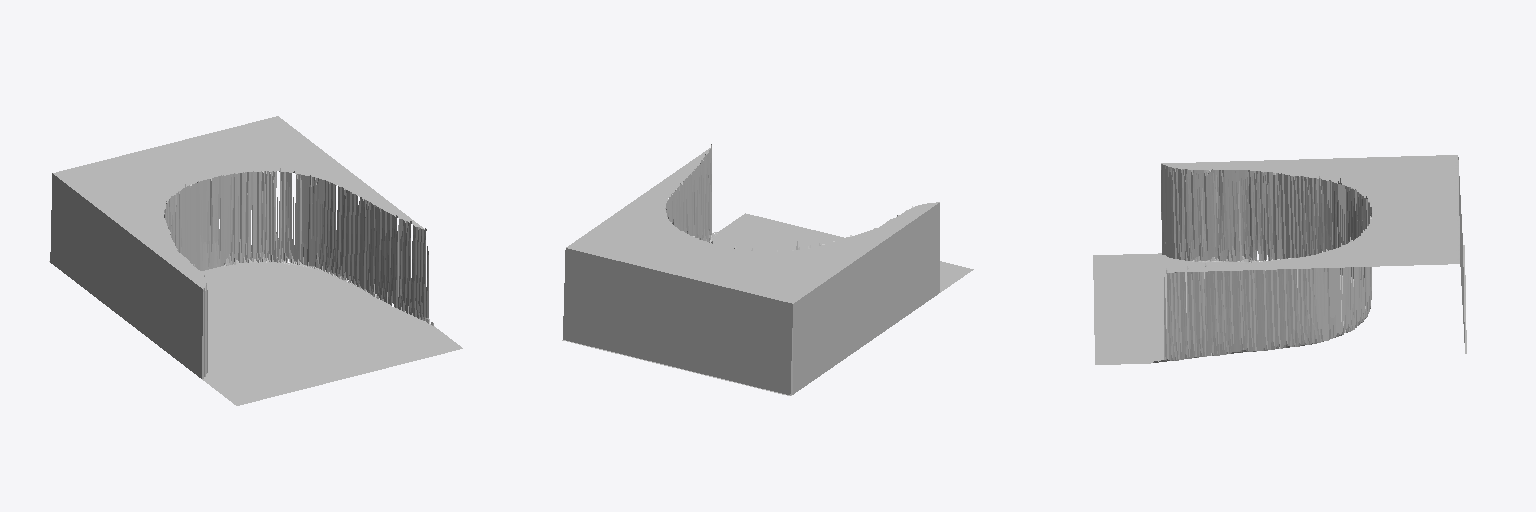
File: mountain.obj
3 views of the same model, side by side, from view 1: azimuth 30°, elevation 25°; view 2: azimuth 150°, elevation 25°; view 3: azimuth 270°, elevation 25° (orthographic).
Size of the model in its own units: 0.7076 by 0.3192 by 0.9948.